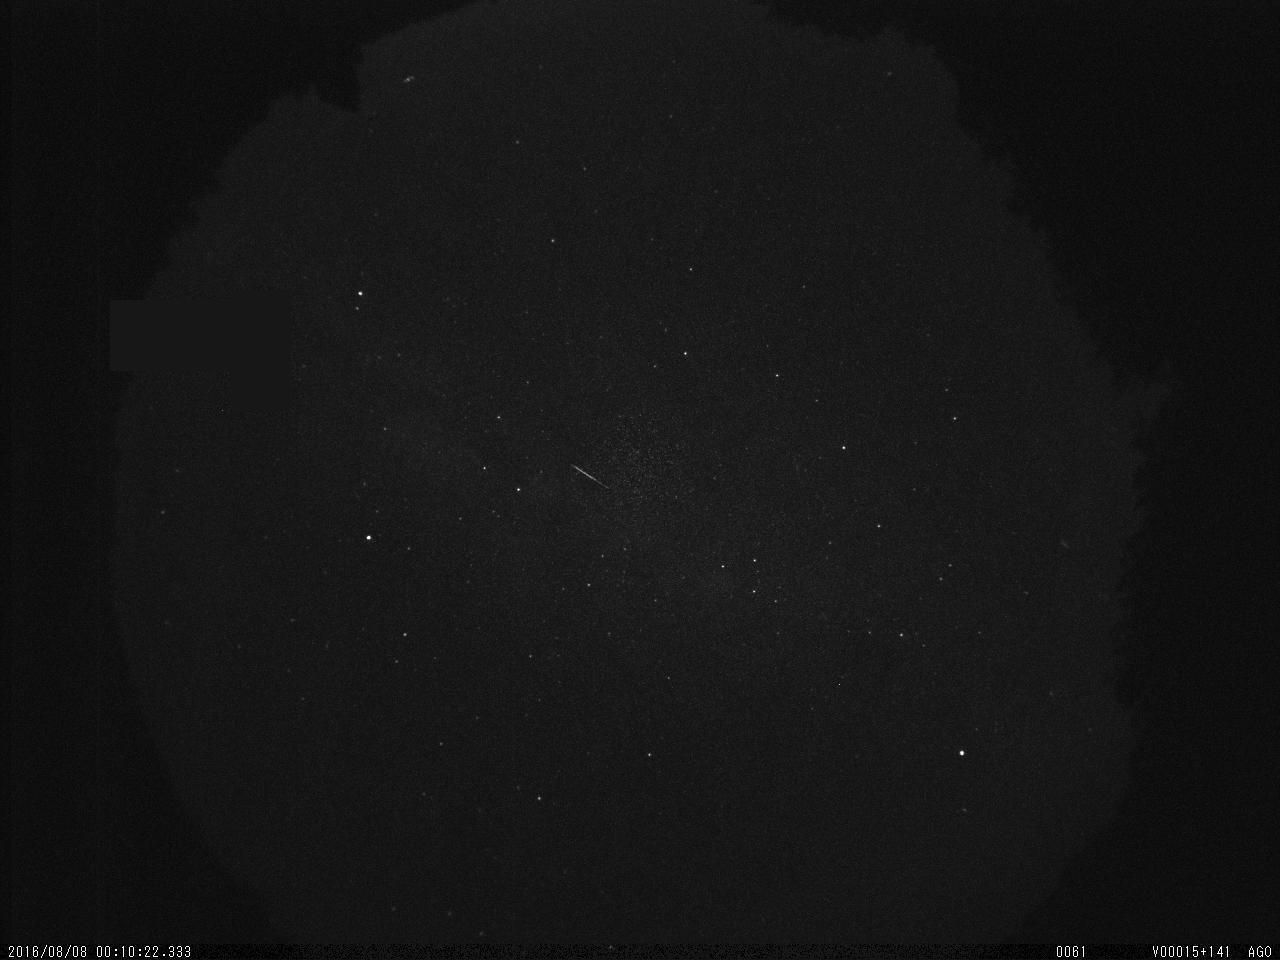meteor: (558, 452, 625, 505)
